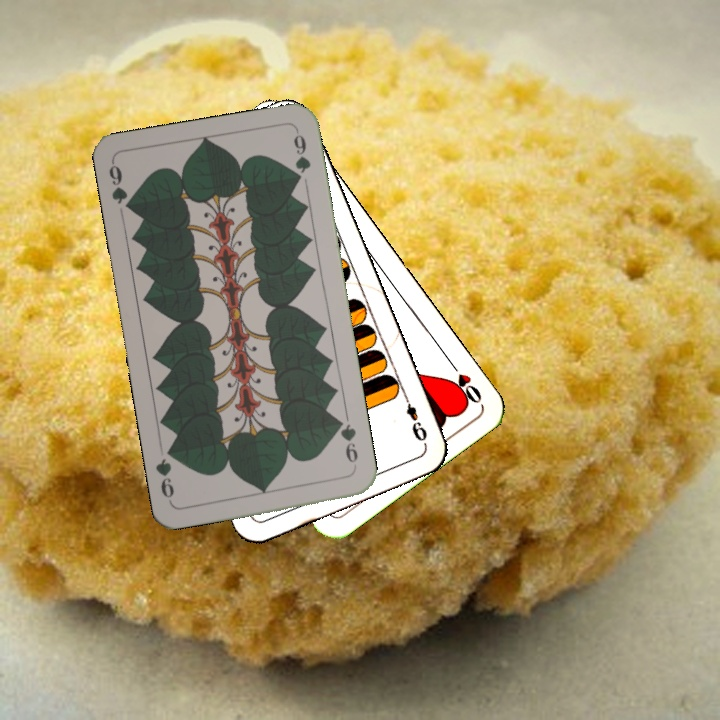E9: (399, 390, 430, 444)
G9: (104, 159, 137, 215), (332, 415, 361, 473)
HO: (444, 355, 485, 408)
